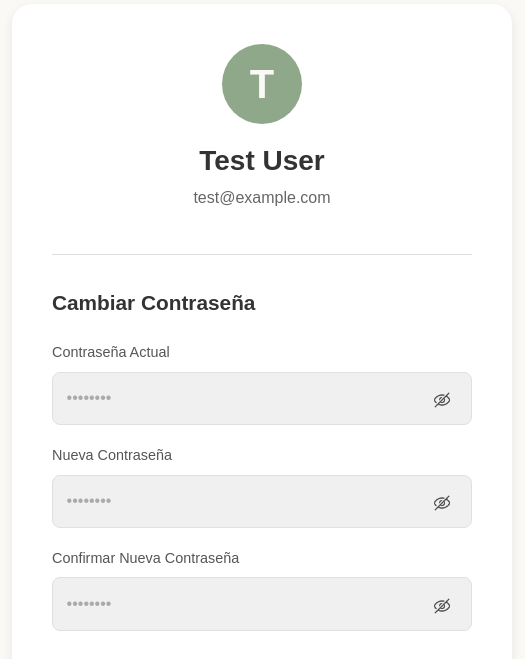
Test case: UserProfilePage › debería mostrar un error si las contraseñas nuevas no coinciden
Step 1. Type "currentPassword" into the password field labelled "Contraseña Actual" → (262, 398), box [52,372,472,425]
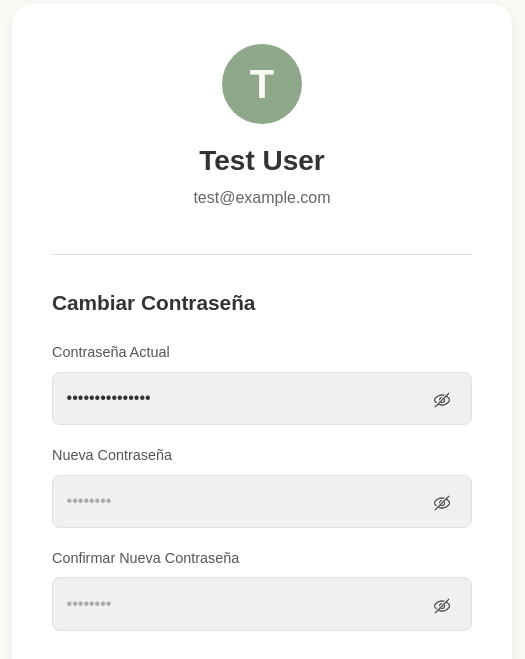
Step 2. Type "newPassword" into the password field labelled "Nueva Contraseña" → (262, 501), box [52,475,472,528]
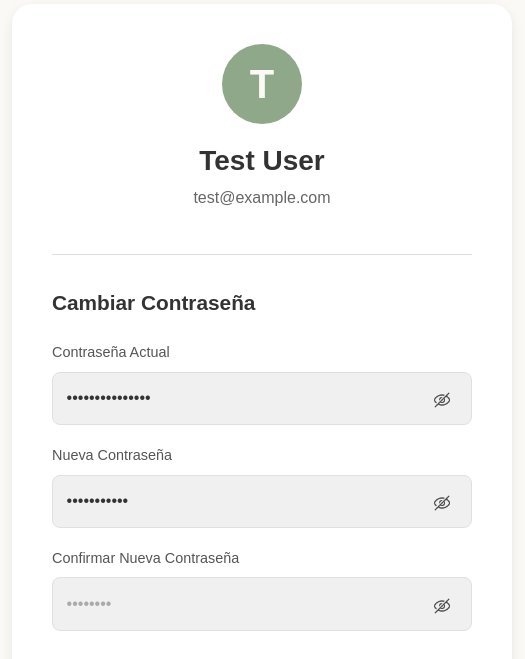
Step 3. Type "differentPassword" into the password field labelled "Confirmar Nueva Contraseña" → (262, 604), box [52,577,472,631]
(page scrolled)
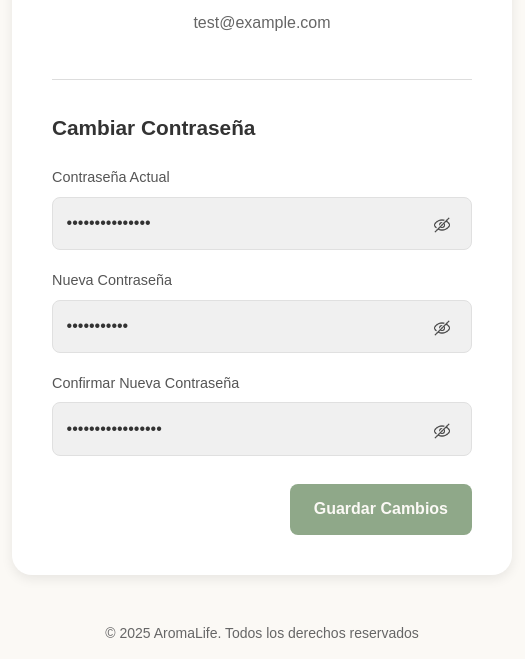
Step 4. Click the button "Guardar Cambios" → (381, 509), box [290,484,472,535]
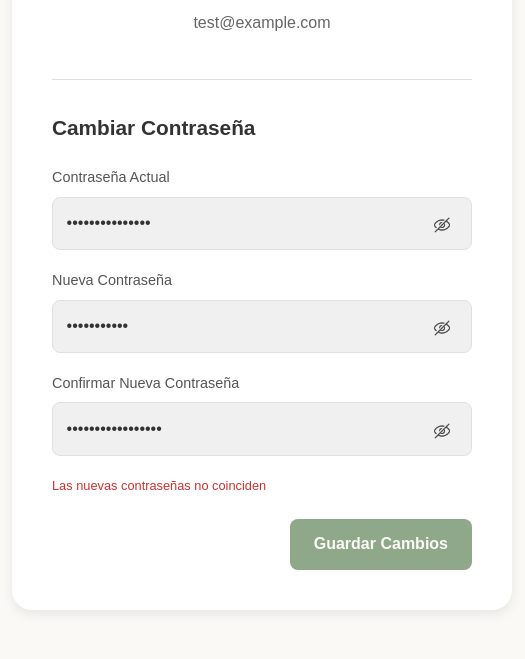
Expected: the text "Las nuevas contraseñas no coinciden" is shown, [52,478,266,493]
